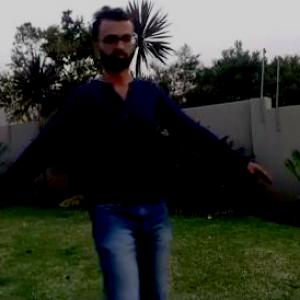land: (48, 67, 206, 259)
